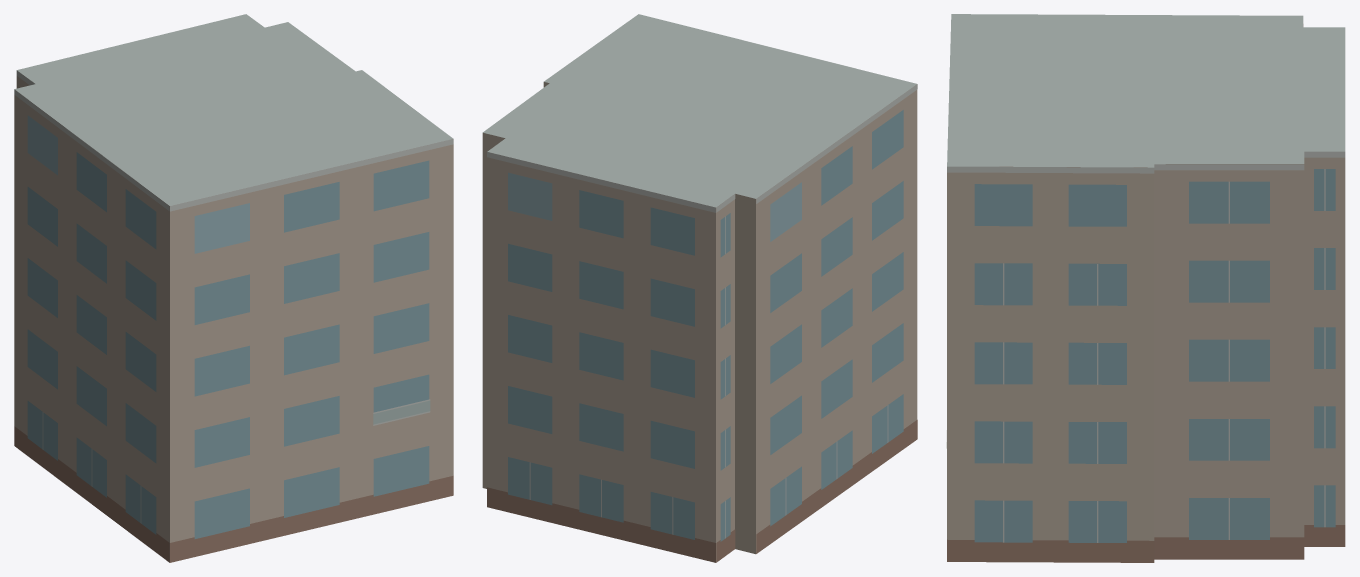
File: survey-upis-32709806.glb
3 renders of one model, left to right at view 1: azimuth 30°, elevation 25°; view 2: azimuth 150°, elevation 25°; view 3: azimuth 270°, elevation 25°, orthographic. The views are drawn at different scales.
Visible parts, largest first — view 1: survey-upis-32709806.tmp; view 2: survey-upis-32709806.tmp; view 3: survey-upis-32709806.tmp.
Part boxes in pixels (bbox=[...]): survey-upis-32709806.tmp: bbox=[14, 14, 453, 562]; survey-upis-32709806.tmp: bbox=[482, 14, 917, 562]; survey-upis-32709806.tmp: bbox=[946, 14, 1345, 562].
Bounding box in the file's own units: 13.25 × 15.9 × 14.56.
